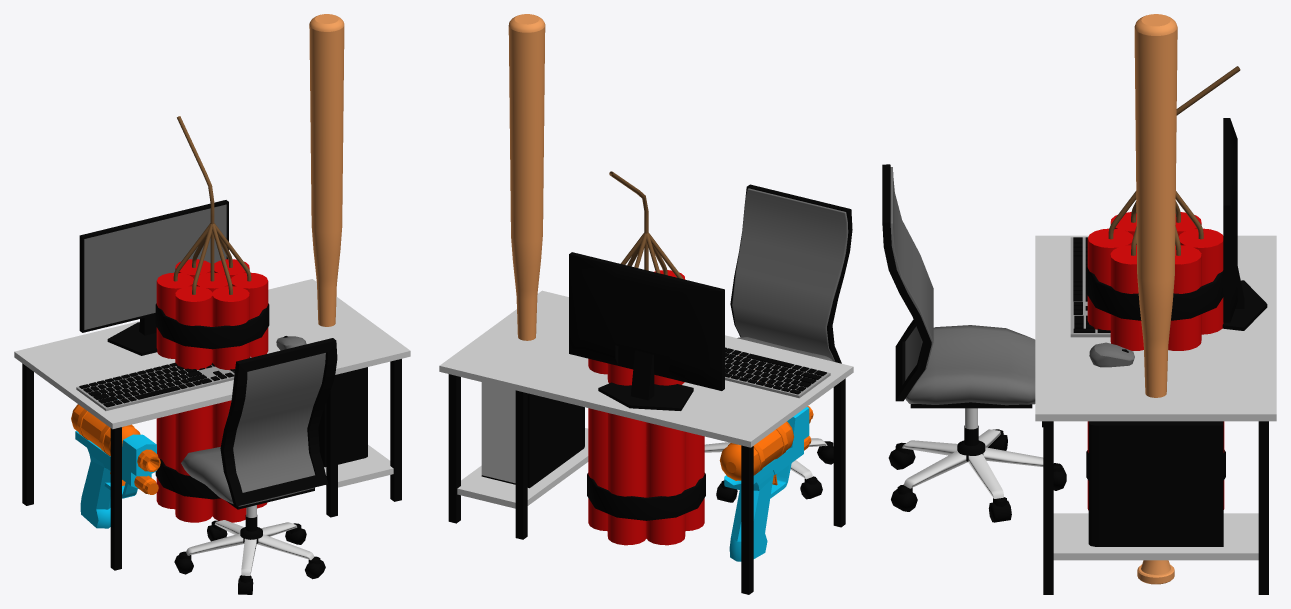
Rendered from VR_Assets_Low.fbx.
3 renders of one model, left to right at view 1: azimuth 30°, elevation 25°; view 2: azimuth 150°, elevation 25°; view 3: azimuth 270°, elevation 25°, orthographic. The views are drawn at different scales.
Visible parts, largest first — view 1: Table_Main_low, Monitor_Screen_low, Bat_low, Chair_Brest_low, Chair_Bs_low, Dyna_Stick4_Low, Dyna_Stick5_Low, PB_main_low, Comp_Front_low, Dyna_Stick3_Low, Dyna_Band1_low, Table_Leg4_low (+12 smaller); view 2: Table_Main_low, Chair_Brest_low, Bat_low, Monitor_CaseL_low, Monitor_CaseR_low, Dyna_Stick2_Low, Dyna_Stick3_Low, Comp_Left_Cover_low, PB_main_low, Comp_Back_Low, Dyna_Band2_low, Table_Base_low (+11 smaller); view 3: Table_Main_low, Bat_low, Comp_Right_Cover_low, Chair_Seat_low, Table_Base_low, Chair_Brest_low, Dyna_Band1_low, Chair_Bs_low, pCube122 (×4), Monitor_CaseR_low, Dyna_Stick7_Low, Dyna_Stick6_Low (+9 smaller).
Part boxes in pixels (<box>): Table_Main_low: <box>14,279,410,429</box>; Monitor_Screen_low: <box>84,204,226,329</box>; Bat_low: <box>309,14,344,326</box>; Chair_Brest_low: <box>227,353,325,492</box>; Chair_Bs_low: <box>220,338,337,506</box>; Dyna_Stick4_Low: <box>175,286,212,522</box>; Dyna_Stick5_Low: <box>212,286,249,522</box>; PB_main_low: <box>75,431,156,528</box>; Comp_Front_low: <box>318,367,367,467</box>; Dyna_Stick3_Low: <box>156,272,193,509</box>; Dyna_Band1_low: <box>155,303,269,349</box>; Table_Leg4_low: <box>110,427,121,570</box>; Table_Main_low: <box>439,290,853,447</box>; Chair_Brest_low: <box>732,188,848,361</box>; Bat_low: <box>508,14,545,340</box>; Monitor_CaseL_low: <box>642,270,724,390</box>; Monitor_CaseR_low: <box>569,252,647,369</box>; Dyna_Stick2_Low: <box>607,363,646,545</box>; Dyna_Stick3_Low: <box>646,375,685,545</box>; Comp_Left_Cover_low: <box>527,393,581,486</box>; PB_main_low: <box>724,407,809,561</box>; Comp_Back_Low: <box>481,382,515,483</box>; Dyna_Band2_low: <box>587,473,705,520</box>; Table_Base_low: <box>457,428,588,508</box>; Table_Main_low: <box>1035,235,1276,421</box>; Bat_low: <box>1134,14,1177,584</box>; Comp_Right_Cover_low: <box>1102,429,1223,545</box>; Chair_Seat_low: <box>905,325,1035,405</box>; Table_Base_low: <box>1053,513,1258,560</box>; Chair_Brest_low: <box>890,167,933,392</box>; Dyna_Band1_low: <box>1086,266,1223,320</box>; Chair_Bs_low: <box>882,164,931,401</box>; pCube122 (×4): <box>902,440,1043,498</box>; Monitor_CaseR_low: <box>1223,162,1237,322</box>; Dyna_Stick7_Low: <box>1168,245,1201,350</box>; Dyna_Stick6_Low: <box>1110,245,1143,350</box>.
Size of the model in its own units: 18.23 by 26.56 by 17.02.
